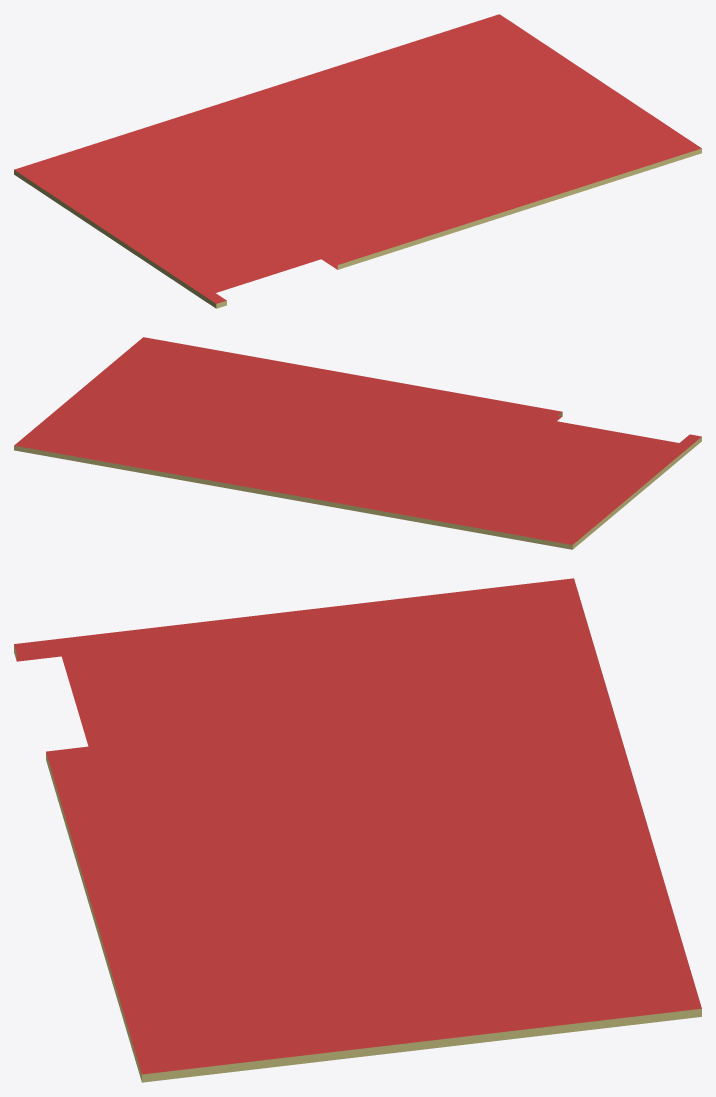
The picture shows the model from 3 angles, top to bottom: view 1: azimuth 30°, elevation 25°; view 2: azimuth 150°, elevation 25°; view 3: azimuth 270°, elevation 25°; orthographic projection. The views are drawn at different scales.
Size of the model in its own units: 12.11 by 7.65 by 0.543.
